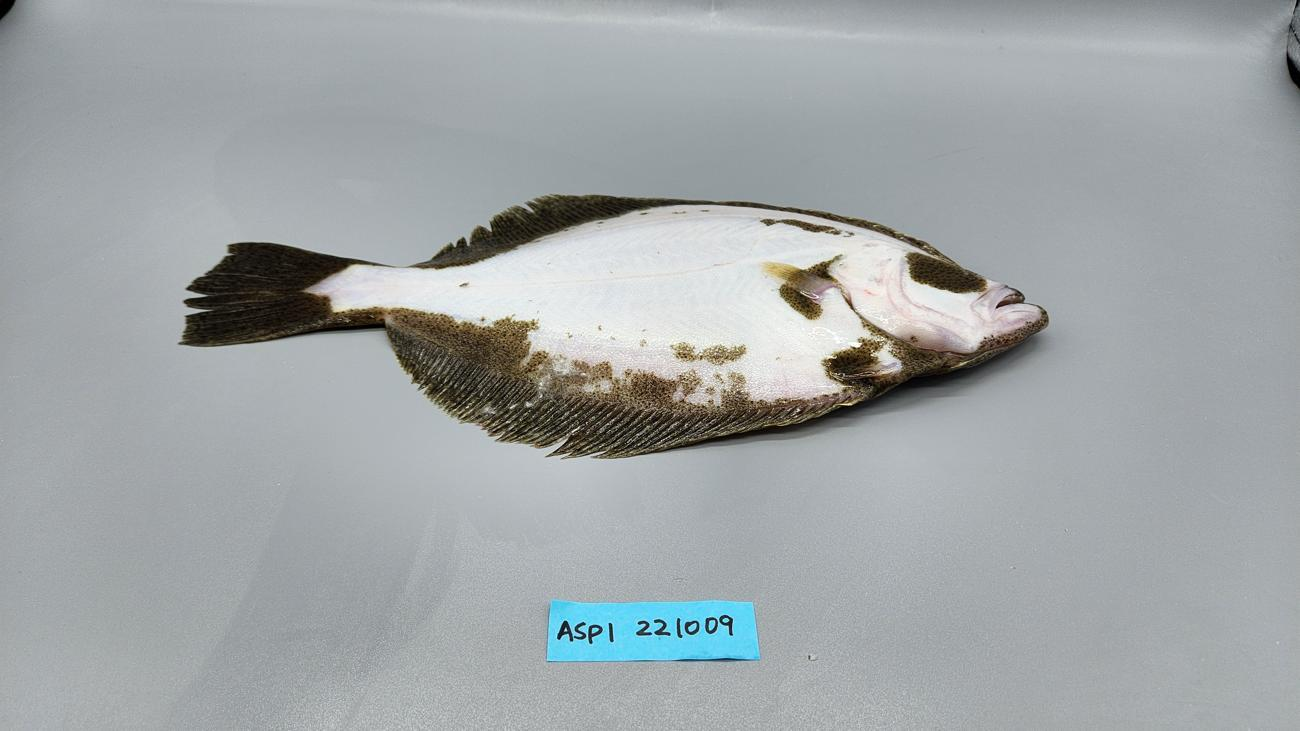SPDYH: (719, 390, 863, 412)
SPOUY: (170, 180, 1060, 472)
